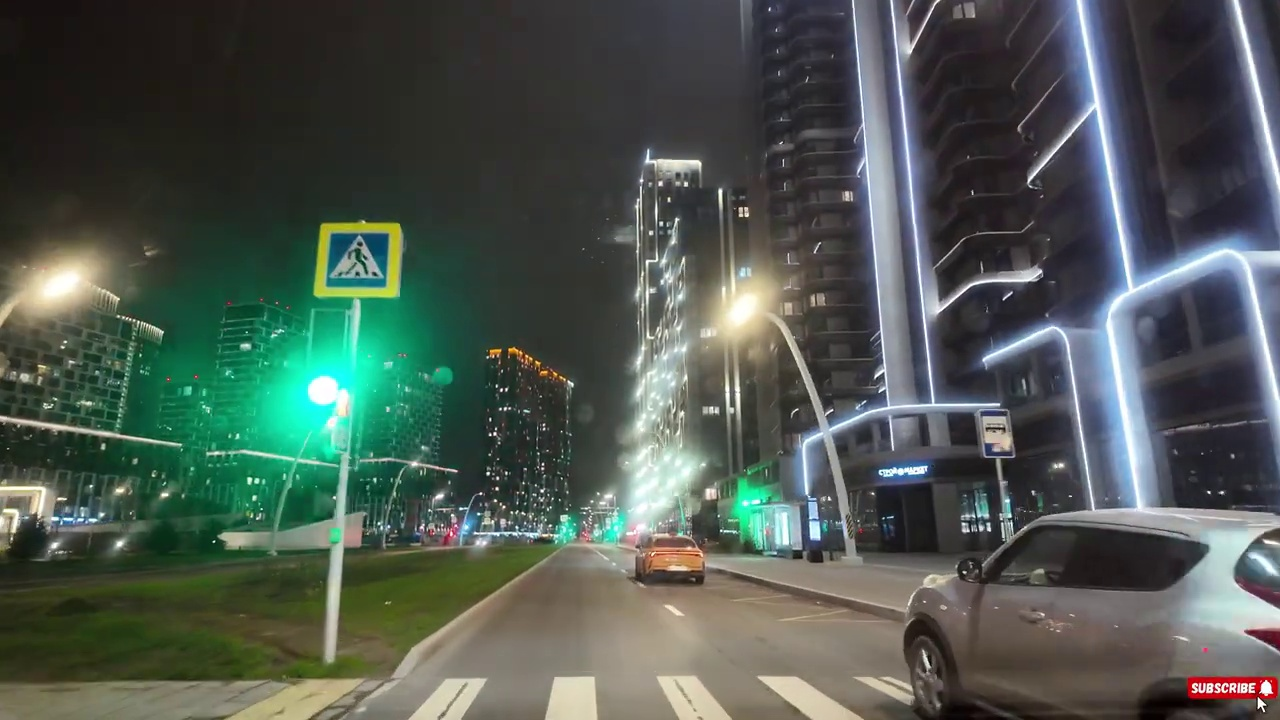acesa: (26, 260, 92, 314), (716, 277, 773, 337)
